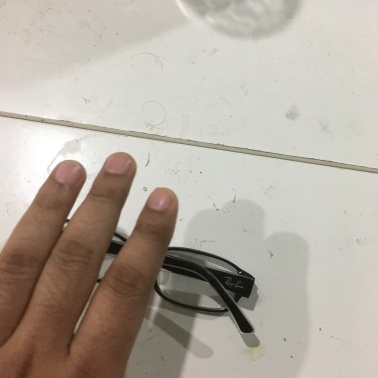glasses: (23, 210, 262, 323)
